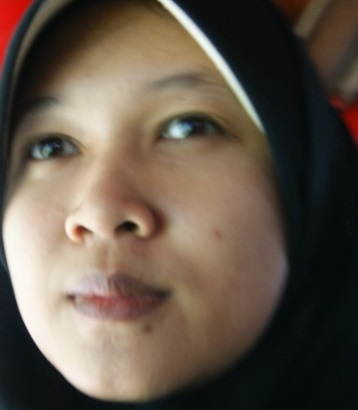bekas: (211, 226, 226, 242), (139, 321, 154, 335)
